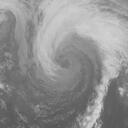cyclone: (27, 18, 107, 110)
